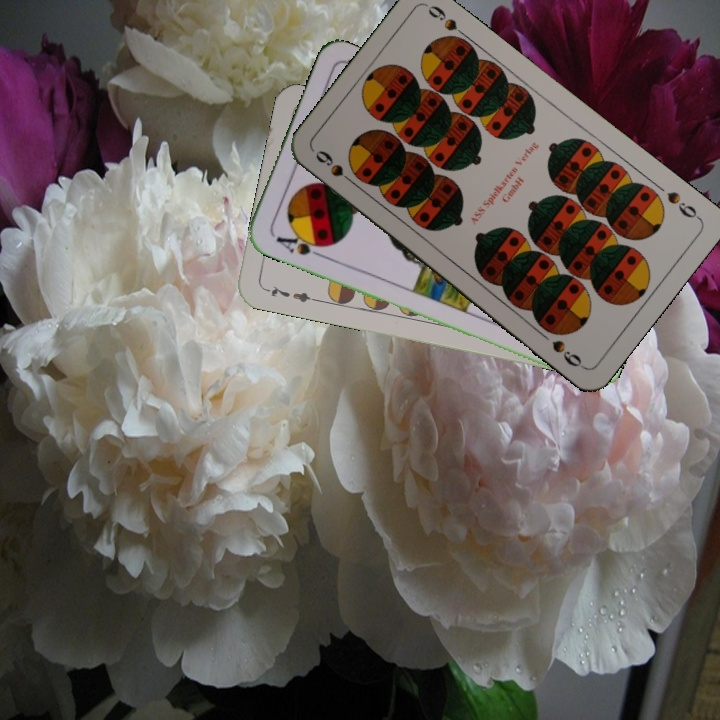E7: (261, 281, 319, 305)
S9: (311, 146, 360, 190), (663, 187, 703, 222)
SA: (272, 228, 330, 261)
